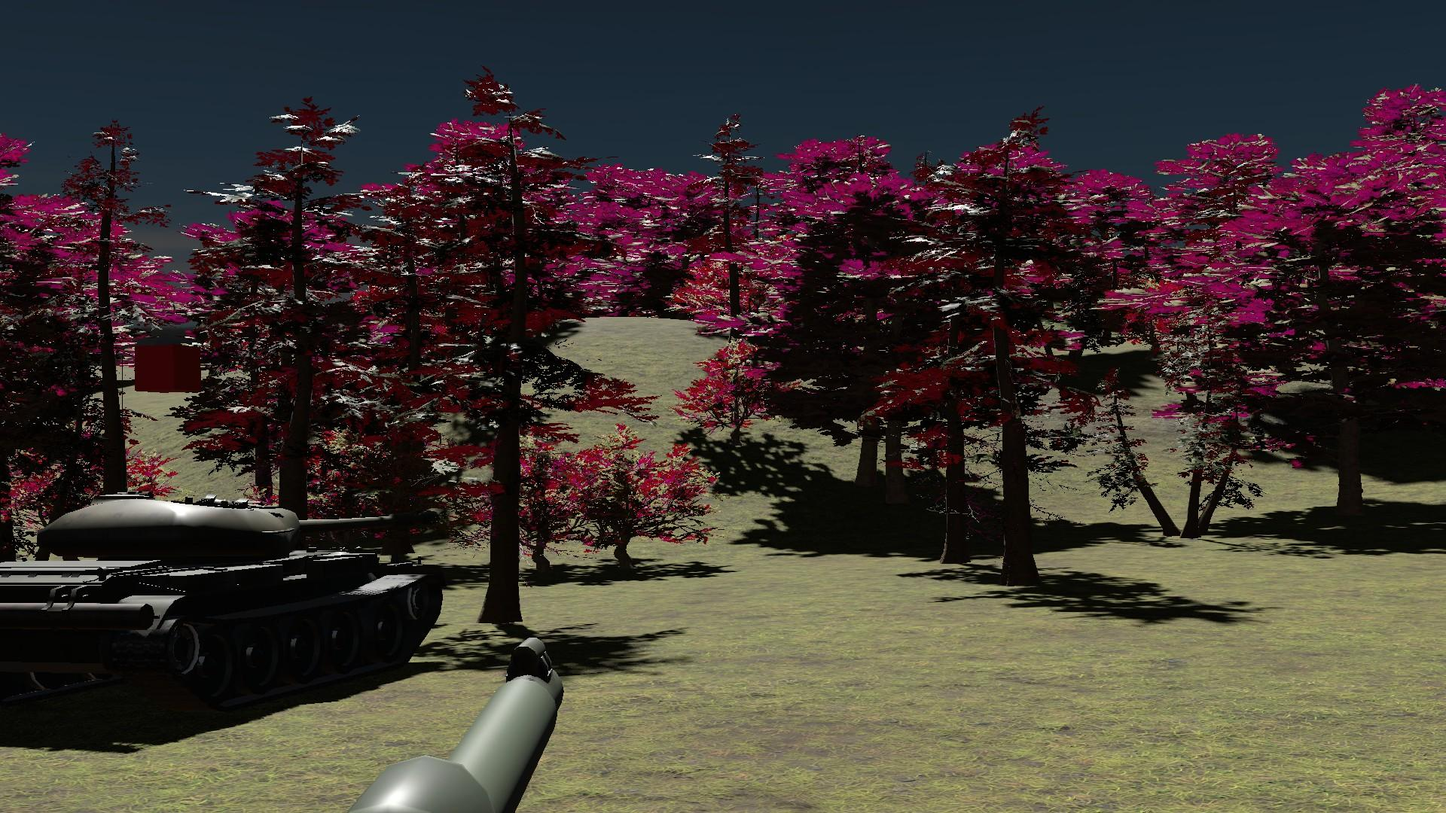Tank: (0, 480, 448, 733)
